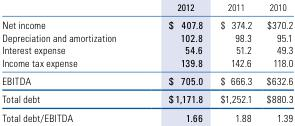table: (1, 0, 292, 123)
table column: (1, 0, 141, 123), (141, 0, 210, 123), (210, 0, 258, 123), (258, 0, 292, 123)
table column header: (1, 0, 292, 15)
table row: (1, 71, 292, 89), (1, 89, 292, 107), (1, 107, 292, 123), (1, 0, 292, 15), (1, 15, 292, 30), (1, 56, 292, 71), (1, 30, 292, 43), (1, 43, 292, 56)
